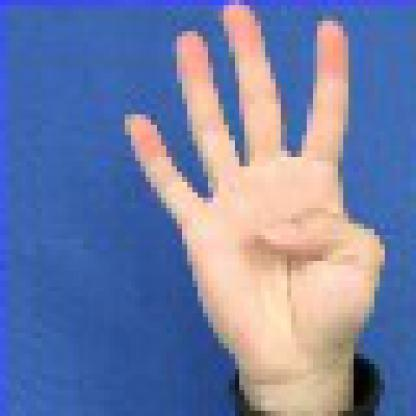four: (109, 0, 395, 380)
